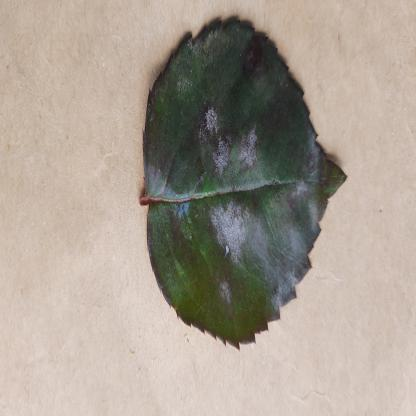powdery-mildew: (141, 13, 349, 343)
